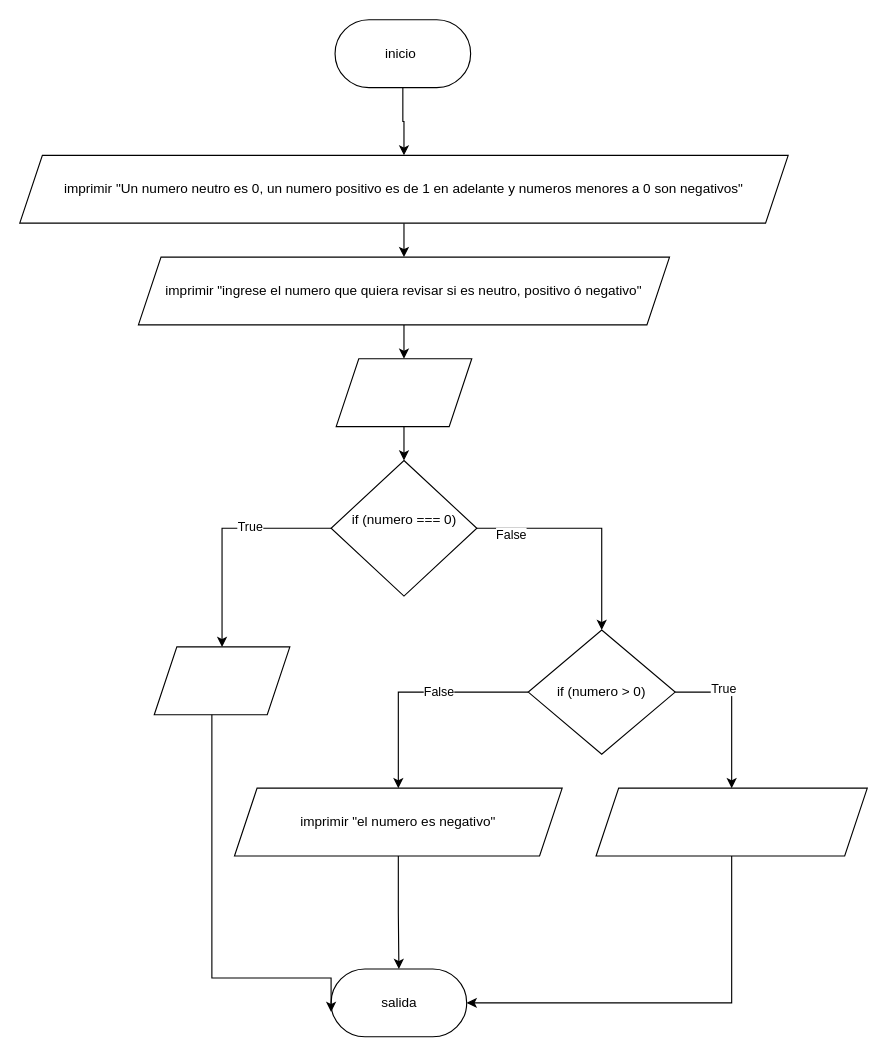
The diagram is 887 pixels wide and 1057 high, and some of its shapes have lost their labels. The centre of each missing label's shape, as x and y in pixels:
imprimir "El numero es neutro": pixel 221 680
imprimir "el numero es positivo": pixel 731 821
leer numero: pixel 403 392
